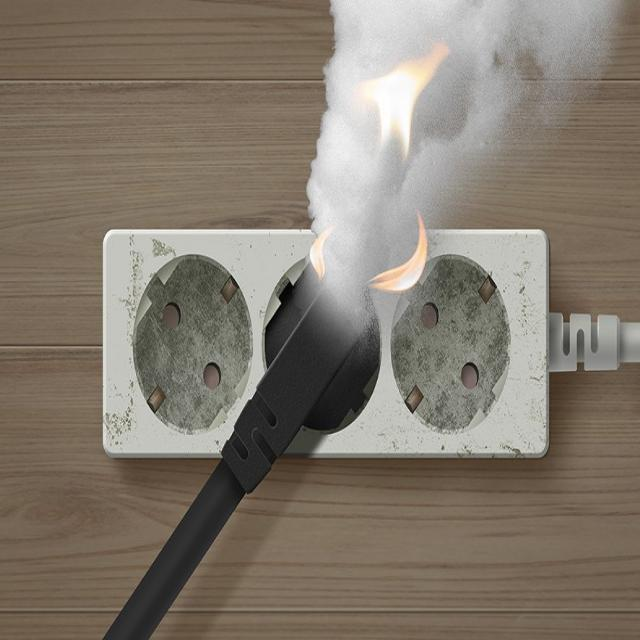typeb: (96, 213, 266, 518)
